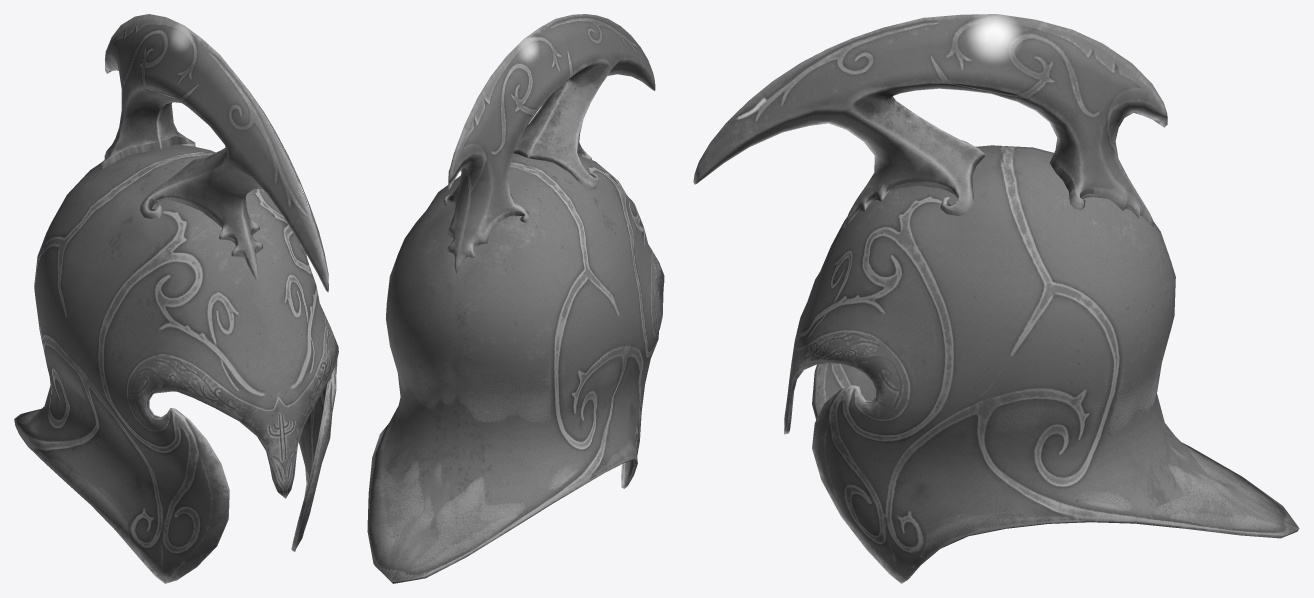
The model's file is rivendell_helmet_infantry_tier3_silver.fbx.
3 views of the same model, side by side, from view 1: azimuth 30°, elevation 25°; view 2: azimuth 150°, elevation 25°; view 3: azimuth 270°, elevation 25° (orthographic). The views are drawn at different scales.
Parts seen in each view (by area): view 1: rivendell_helmet_infantry_tier3_silver.1, rivendell_helmet_infantry_tier3_silver.0; view 2: rivendell_helmet_infantry_tier3_silver.1, rivendell_helmet_infantry_tier3_silver.0; view 3: rivendell_helmet_infantry_tier3_silver.1, rivendell_helmet_infantry_tier3_silver.0.
Boxes of the visible parts, left/top/right/bottom form: rivendell_helmet_infantry_tier3_silver.1: left=14, top=144, right=338, bottom=583; rivendell_helmet_infantry_tier3_silver.0: left=100, top=14, right=328, bottom=292; rivendell_helmet_infantry_tier3_silver.1: left=367, top=153, right=664, bottom=583; rivendell_helmet_infantry_tier3_silver.0: left=443, top=14, right=655, bottom=273; rivendell_helmet_infantry_tier3_silver.1: left=784, top=145, right=1299, bottom=583; rivendell_helmet_infantry_tier3_silver.0: left=693, top=14, right=1167, bottom=227.
Size of the model in its own units: 0.2002 by 0.4296 by 0.4196.
Materials: 2 (2 with a texture image).
